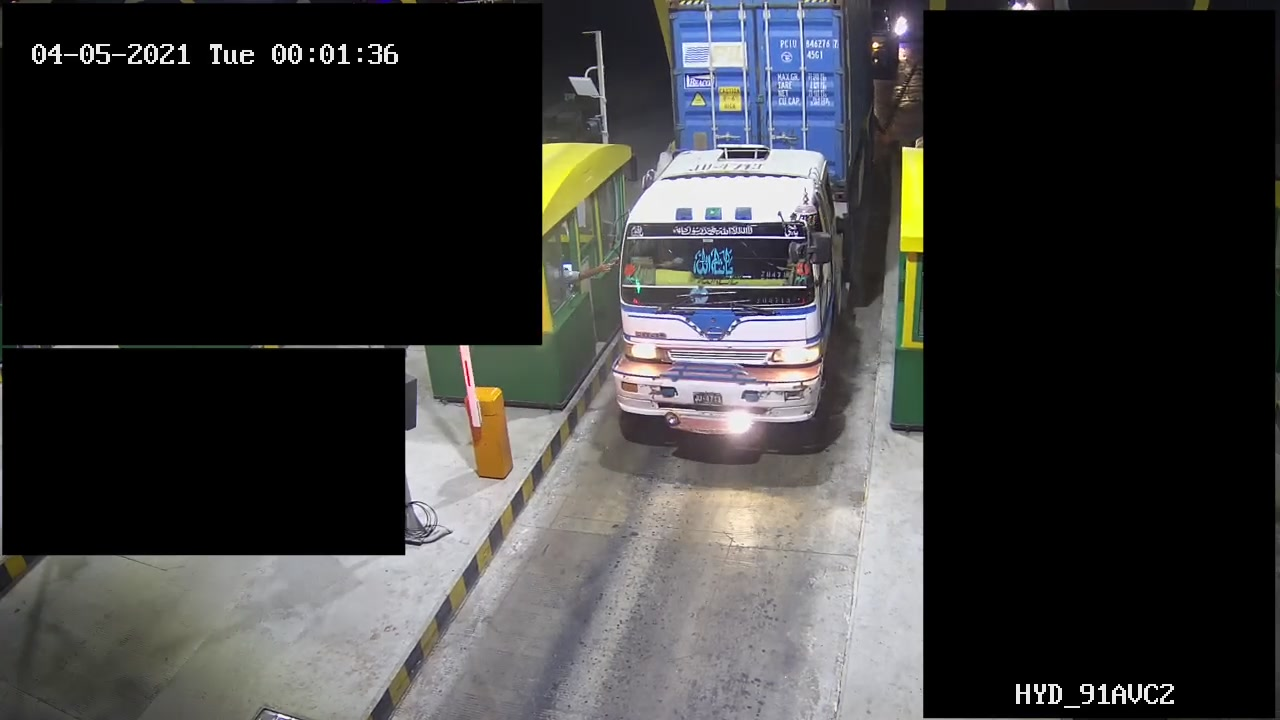F6: (603, 1, 884, 453)
